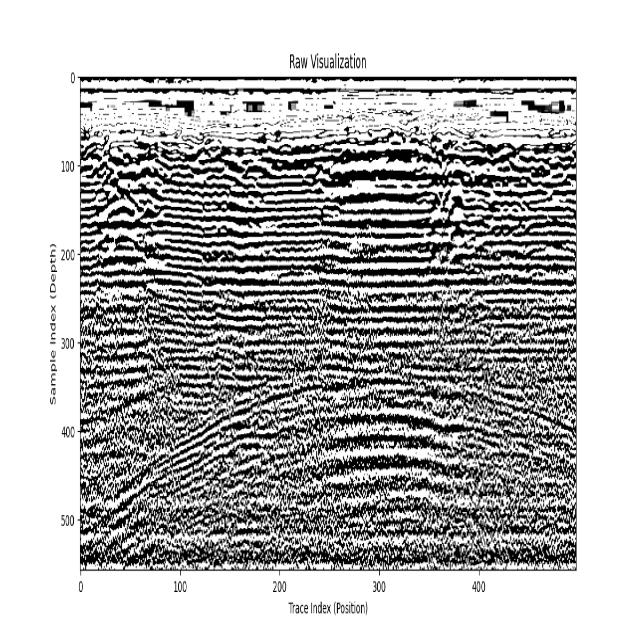anomaly: (83, 365, 575, 567)
